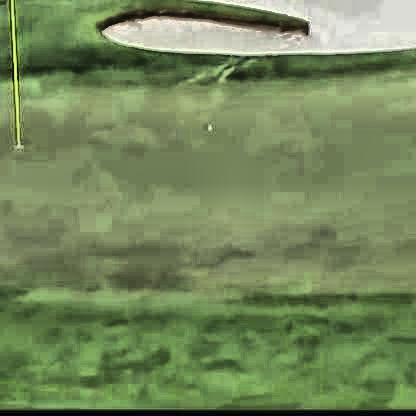golfball: (203, 120, 210, 130)
